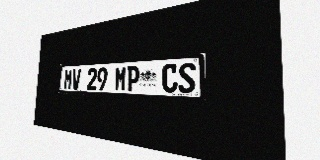2: (87, 68, 97, 90)
9: (96, 67, 108, 91)
C: (162, 63, 178, 93)
M: (114, 66, 127, 91), (64, 69, 73, 90)
P: (126, 65, 140, 92)
S: (178, 62, 196, 93)
V: (72, 69, 81, 90)
